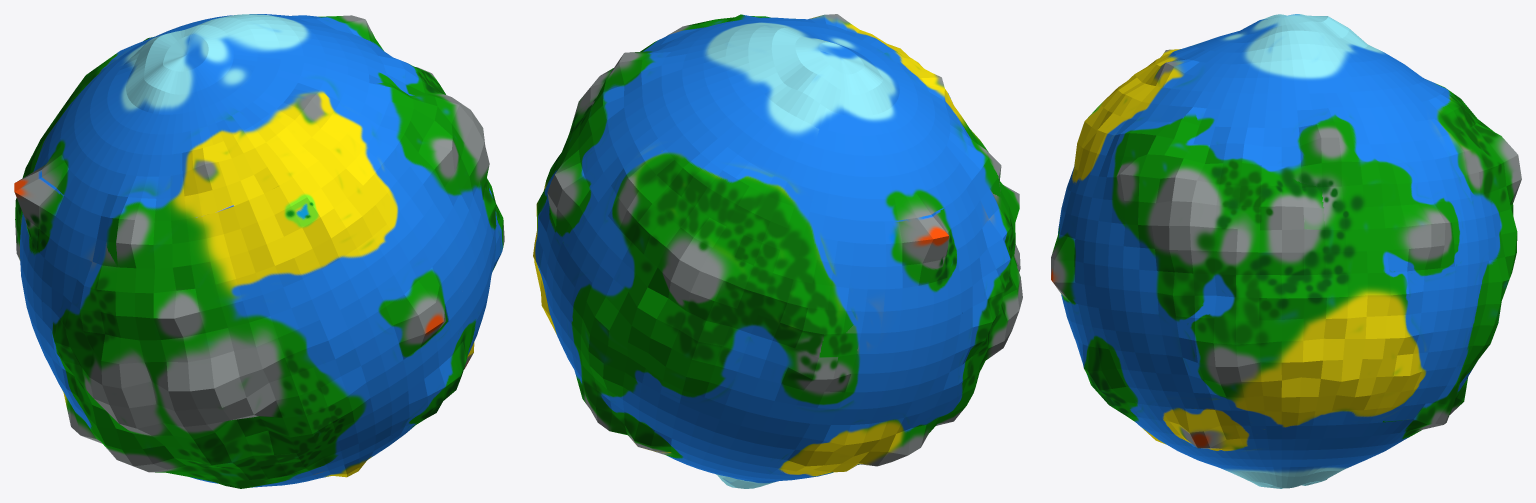
Rendered from Enhabitable super tera.fbx.
3 views of the same model, side by side, from view 1: azimuth 30°, elevation 25°; view 2: azimuth 150°, elevation 25°; view 3: azimuth 270°, elevation 25° (orthographic). The views are drawn at different scales.
Visible parts, largest first — view 1: Sphere; view 2: Sphere; view 3: Sphere.
Boxes of the visible parts, x1,y1,x2,y2 form: Sphere: [14, 14, 504, 488]; Sphere: [533, 14, 1022, 488]; Sphere: [1051, 14, 1521, 488].
Bounding box in the file's own units: 8.95 × 9.16 × 8.91.
